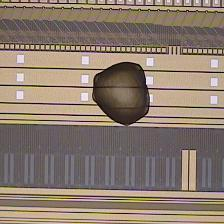COATING BAD: (87, 57, 159, 129)
